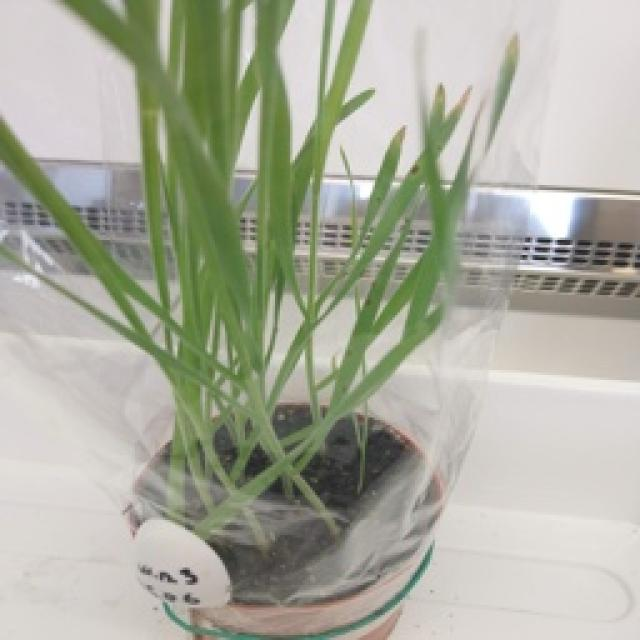Black Rust: (128, 397, 440, 605)
Healthy Wheat: (0, 0, 522, 555)
